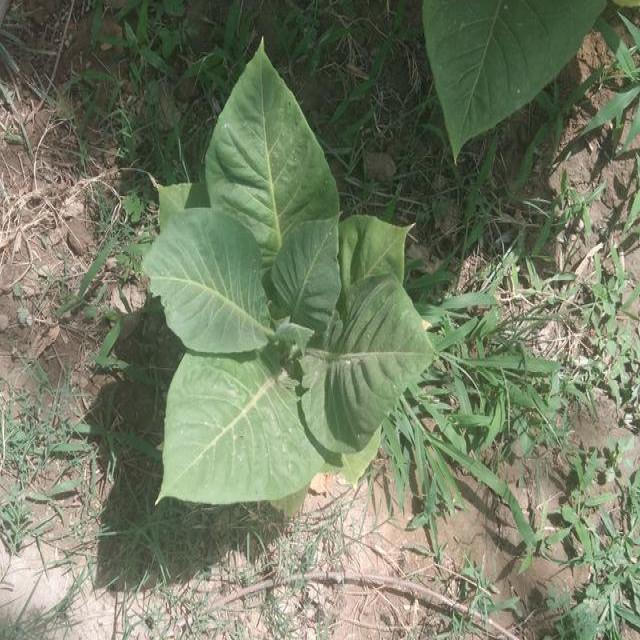crop: (139, 36, 445, 524)
